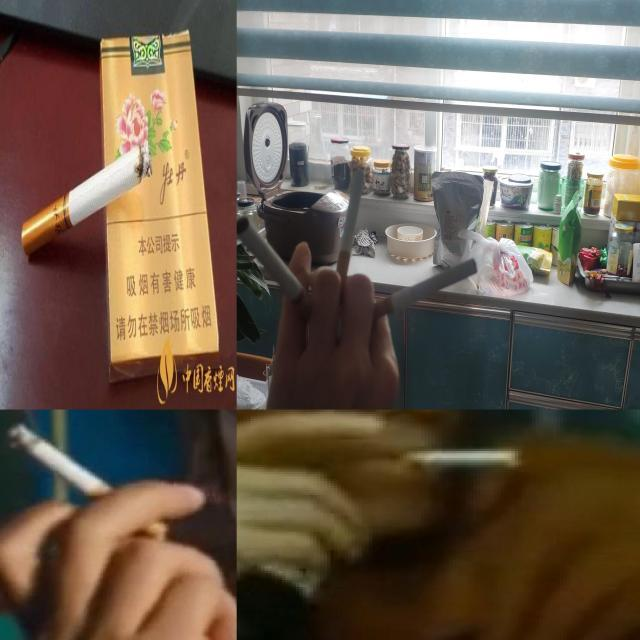cigarette: (7, 422, 168, 538), (21, 140, 152, 256), (236, 215, 322, 332), (364, 258, 480, 325), (330, 168, 368, 308), (399, 444, 518, 467)
